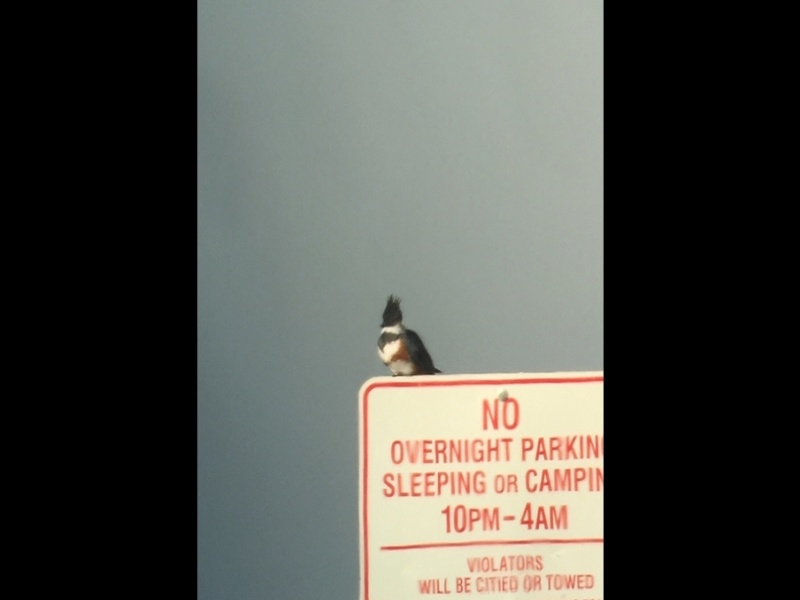kingfisher: (375, 294, 443, 375)
